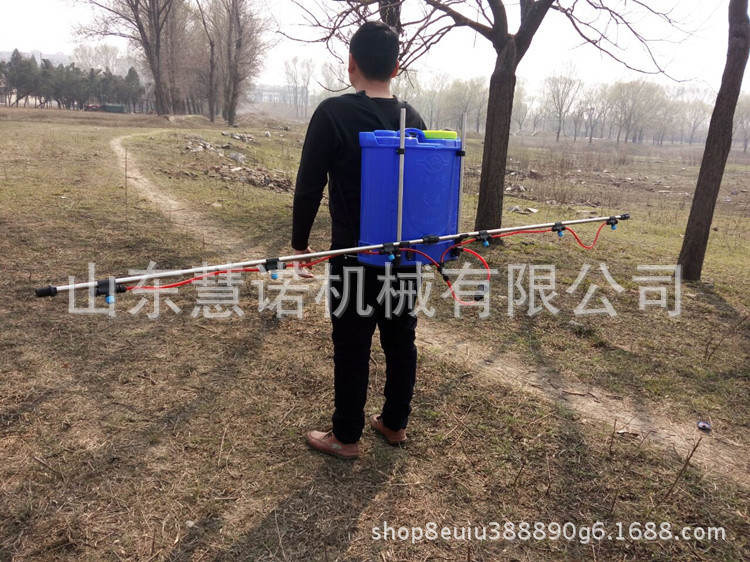berrl: (354, 123, 468, 267)
